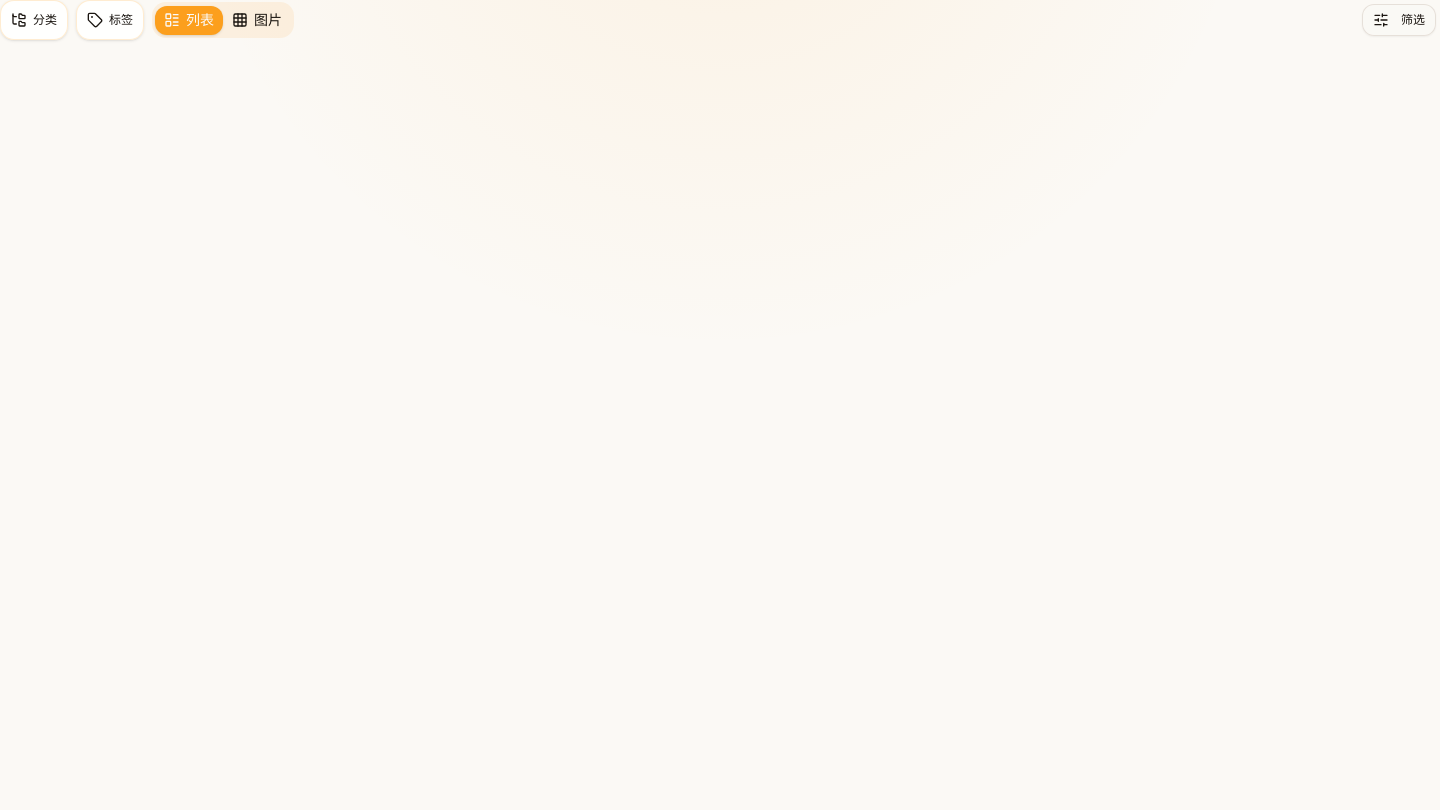
Scenario: ThingHeader › 分类筛选 › 应该通过右侧抽屉显示完整分类列表
Click the button with aria-label "打开分类筛选".
click(34, 20)  # box [0,0,68,40]
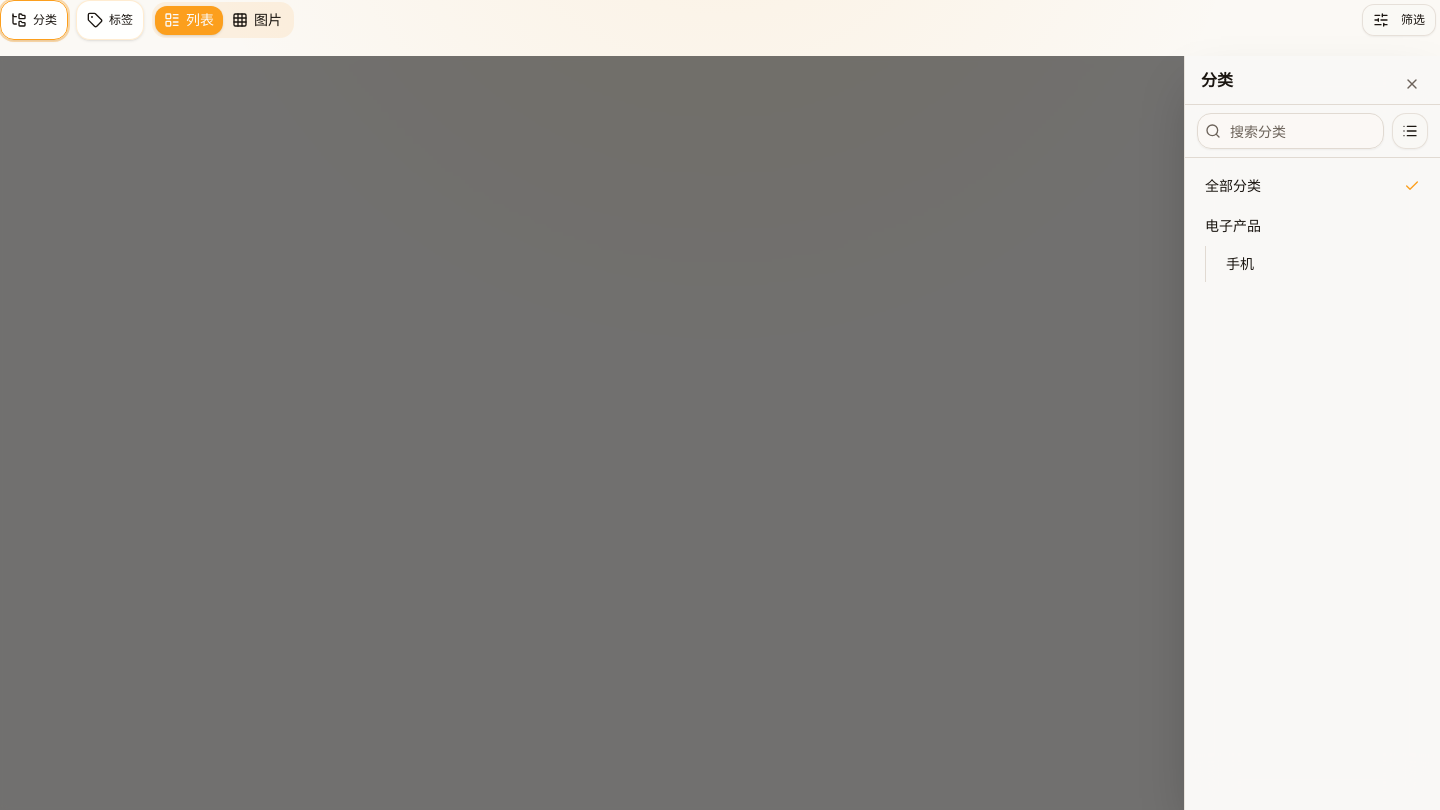
Expected: the field labelled "搜索分类" is shown, [1197,113,1384,149]
Expected: the button named "只显示主分类" is shown, [1392,113,1428,149]
Expected: the text "电子产品" is shown, [1205,216,1261,236]
